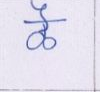ai_matra: (30, 0, 49, 20)
